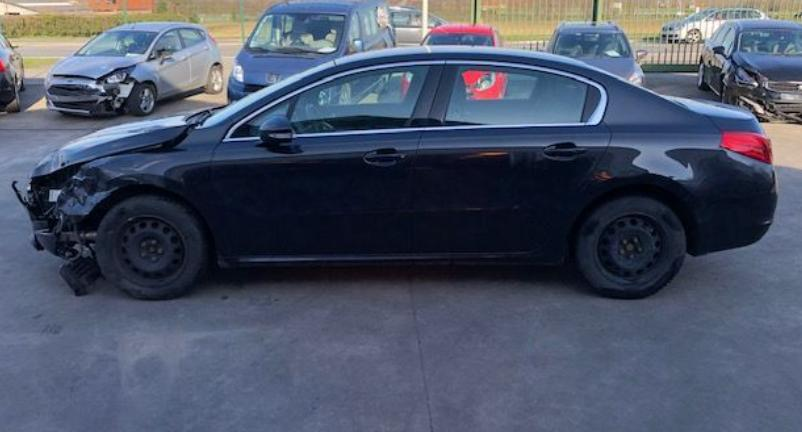Back-bumper: (692, 172, 778, 256)
Back-door: (410, 60, 611, 254)
Back-wheel: (577, 196, 685, 302)
Back-window: (424, 59, 609, 126)
Fender: (55, 121, 229, 263)
Front-bumper: (29, 221, 103, 297)
Front-door: (211, 60, 444, 257)
Front-wheel: (93, 193, 208, 301)
Front-window: (220, 65, 444, 140)
Hood: (33, 113, 200, 180)
Quarter-panel: (537, 115, 774, 255)
Rocker-panel: (223, 253, 565, 268)
Roof: (334, 45, 586, 75)
Tail-light: (723, 131, 773, 168)
Trunk: (670, 96, 764, 137)
Windshield: (197, 61, 334, 127)
